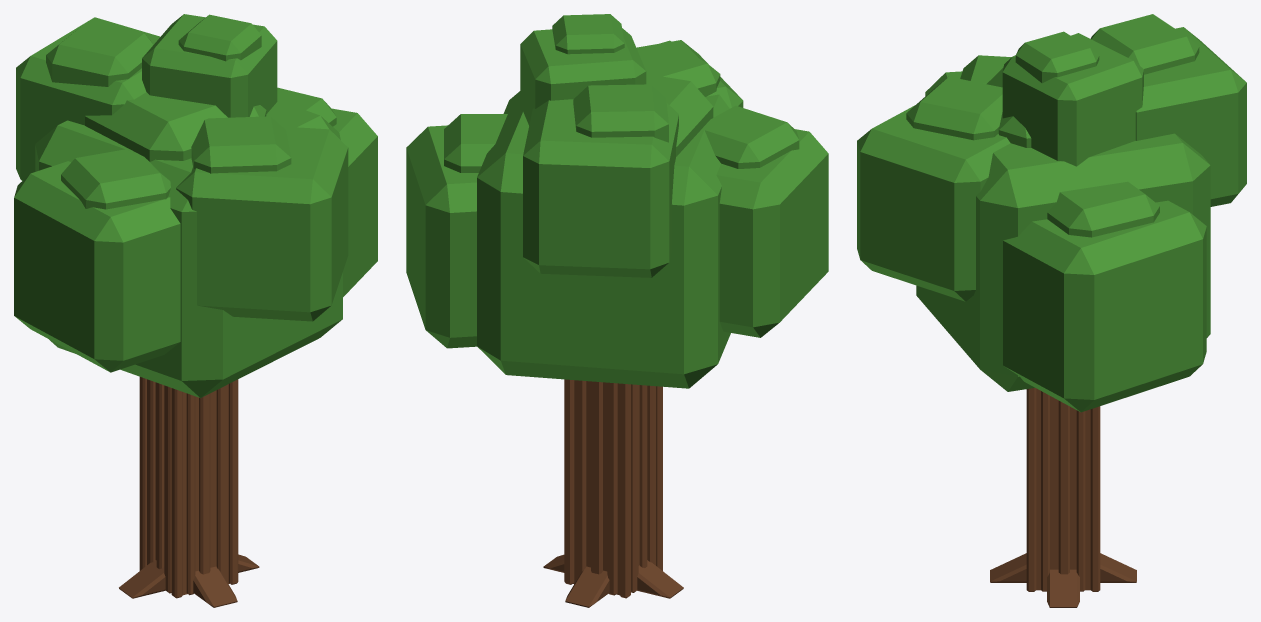
File: Oak.fbx
3 views of the same model, side by side, from view 1: azimuth 30°, elevation 25°; view 2: azimuth 150°, elevation 25°; view 3: azimuth 270°, elevation 25° (orthographic).
Parts seen in each view (by area): view 1: LeafBlock_2, LeafBlock_3, Leaves, Trunk, LeafBlock_4, LeafBlock_5, LeafBlock_1, Root_3, Root_2; view 2: Leaves, LeafBlock_4, LeafBlock_2, Trunk, LeafBlock_1, LeafBlock_5, LeafBlock_3, Root_1, Root_2; view 3: LeafBlock_1, LeafBlock_3, Leaves, LeafBlock_4, LeafBlock_5, Trunk, Root_4, LeafBlock_2, Root_1, Root_3.
Boxes of the visible parts, bbox=[...] form: LeafBlock_2: bbox=[14, 149, 180, 372]; LeafBlock_3: bbox=[176, 116, 348, 321]; Leaves: bbox=[35, 92, 342, 397]; Trunk: bbox=[139, 377, 238, 598]; LeafBlock_4: bbox=[16, 17, 160, 180]; LeafBlock_5: bbox=[142, 14, 277, 117]; LeafBlock_1: bbox=[277, 87, 377, 296]; Root_3: bbox=[193, 566, 237, 607]; Root_2: bbox=[119, 560, 165, 598]; Leaves: bbox=[477, 74, 730, 388]; LeafBlock_4: bbox=[523, 84, 678, 277]; LeafBlock_2: bbox=[704, 105, 828, 337]; Trunk: bbox=[564, 379, 662, 598]; LeafBlock_1: bbox=[406, 114, 507, 348]; LeafBlock_5: bbox=[520, 14, 646, 125]; LeafBlock_3: bbox=[636, 40, 743, 108]; Root_1: bbox=[565, 566, 609, 607]; Root_2: bbox=[637, 560, 683, 598]; LeafBlock_1: bbox=[1003, 181, 1206, 412]; LeafBlock_3: bbox=[857, 76, 1010, 301]; Leaves: bbox=[916, 67, 1210, 391]; LeafBlock_4: bbox=[1090, 14, 1246, 206]; LeafBlock_5: bbox=[1002, 31, 1143, 166]; Trunk: bbox=[1026, 388, 1100, 591]; Root_4: bbox=[1047, 569, 1079, 607]; LeafBlock_2: bbox=[925, 55, 1011, 95]; Root_1: bbox=[1100, 553, 1136, 582]; Root_3: bbox=[990, 553, 1026, 582].
Bounding box in the file's own units: 17.08 × 24.55 × 15.9.
